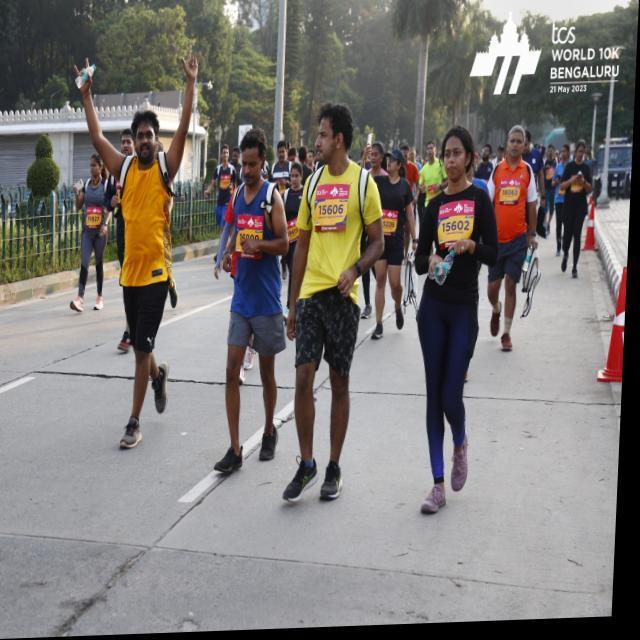dorsal: (438, 204, 480, 253), (316, 184, 353, 237)
